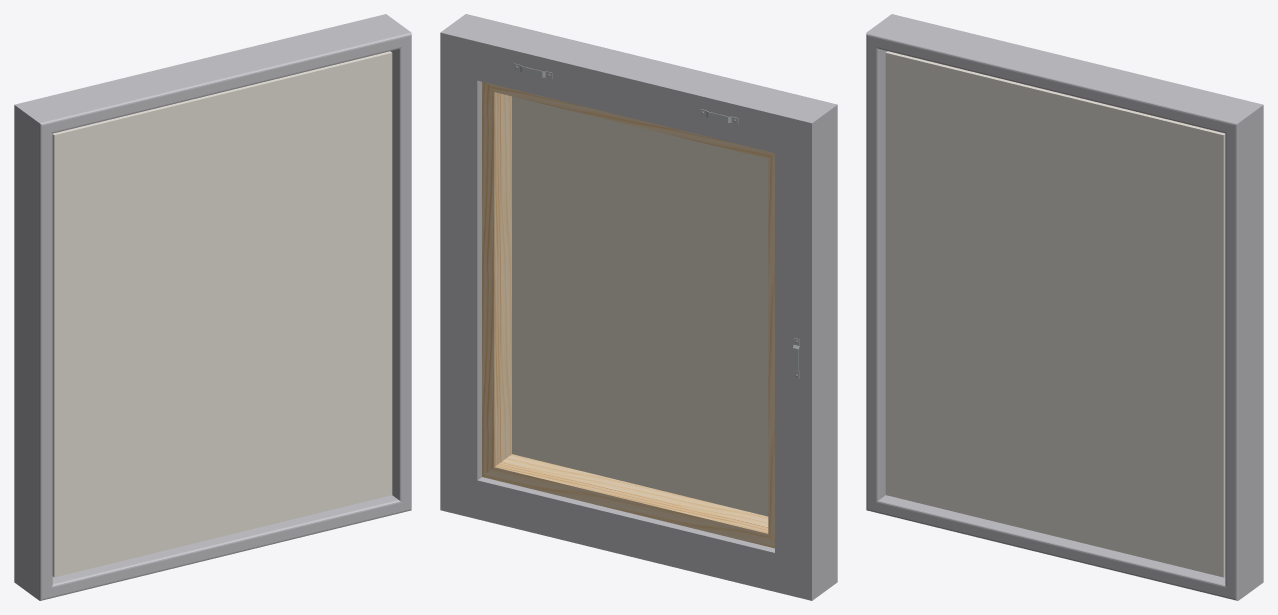
Rendered from delivery.glb.
3 renders of one model, left to right at view 1: azimuth 30°, elevation 25°; view 2: azimuth 150°, elevation 25°; view 3: azimuth 330°, elevation 25°, orthographic.
Parts seen in each view (by area): view 1: Canvas artwork front, Tray approved profile 0; view 2: Canvas linen reverse, Tray approved profile 0, Stretcher top, Sawtooth hanger 0; view 3: Canvas artwork front, Tray approved profile 0.
Part boxes in pixels (x1=…): Canvas artwork front: x1=52, y1=51, x2=392, y2=577; Tray approved profile 0: x1=14, y1=14, x2=411, y2=600; Canvas linen reverse: x1=512, y1=96, x2=768, y2=516; Tray approved profile 0: x1=440, y1=14, x2=837, y2=600; Stretcher top: x1=482, y1=82, x2=774, y2=548; Sawtooth hanger 0: x1=514, y1=63, x2=799, y2=379; Canvas artwork front: x1=885, y1=51, x2=1225, y2=577; Tray approved profile 0: x1=866, y1=14, x2=1263, y2=600.
Bounding box in the file's own units: 0.44 × 0.54 × 0.0564.
Materials: 7 (2 with a texture image).
